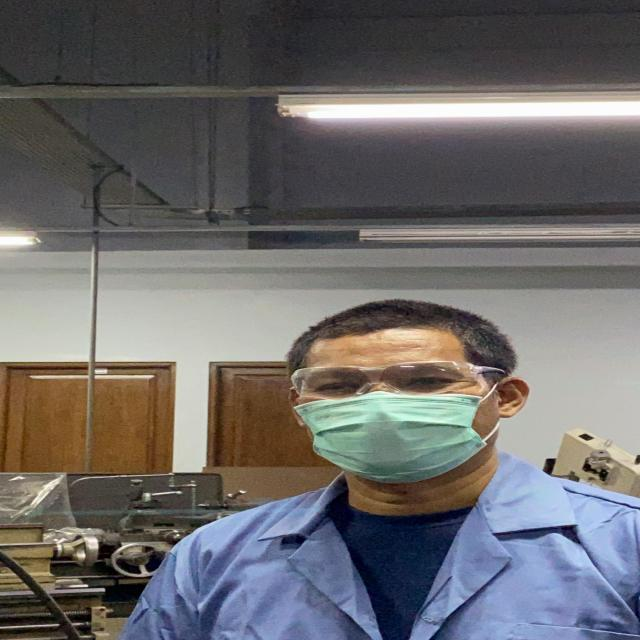face_mask: (286, 361, 501, 487)
glasses: (281, 357, 512, 402)
head_nohelmet: (281, 294, 492, 356)
